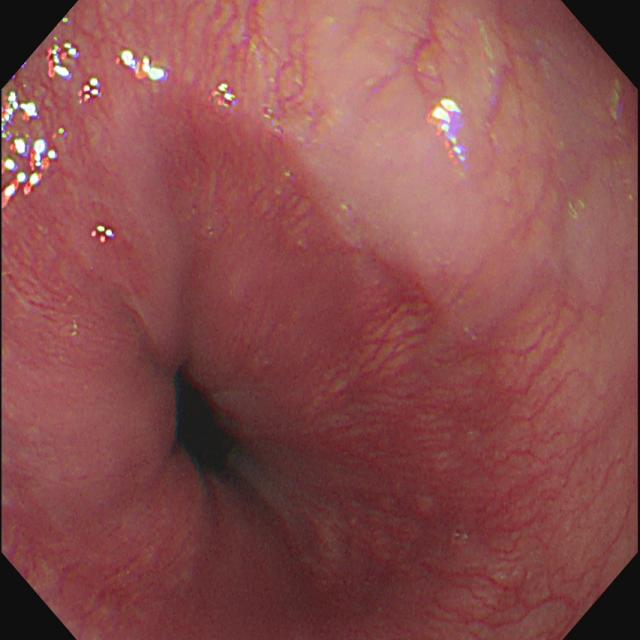E: (156, 348, 253, 490)
U: (2, 86, 60, 208), (427, 96, 469, 169), (115, 47, 171, 88), (41, 40, 83, 83), (207, 78, 244, 109), (75, 74, 105, 106), (89, 222, 116, 245)
